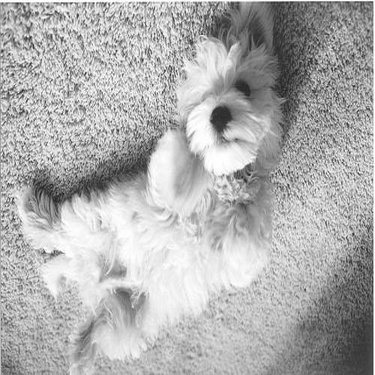dog: (4, 2, 296, 371)
